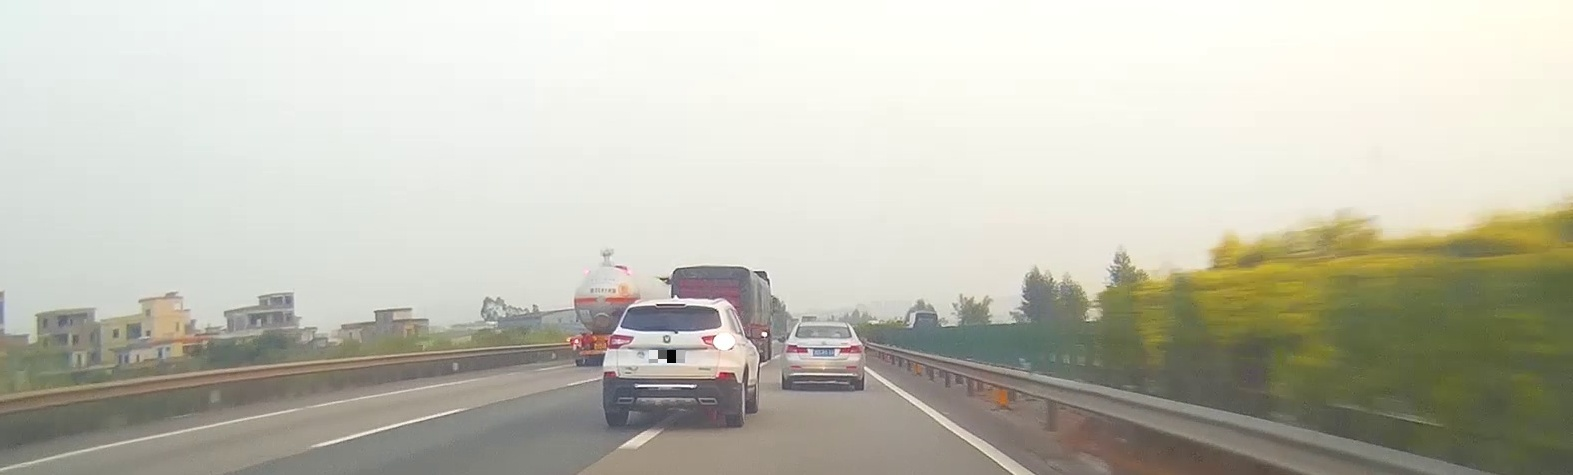L_light: (606, 334, 634, 349), (786, 345, 808, 353)
R_light: (701, 332, 736, 351), (840, 345, 862, 353)
T_light: (655, 303, 687, 308), (819, 324, 829, 327)
day-no: (785, 321, 863, 391)
day-right: (602, 299, 737, 428)
plate_1: (649, 350, 685, 363)
